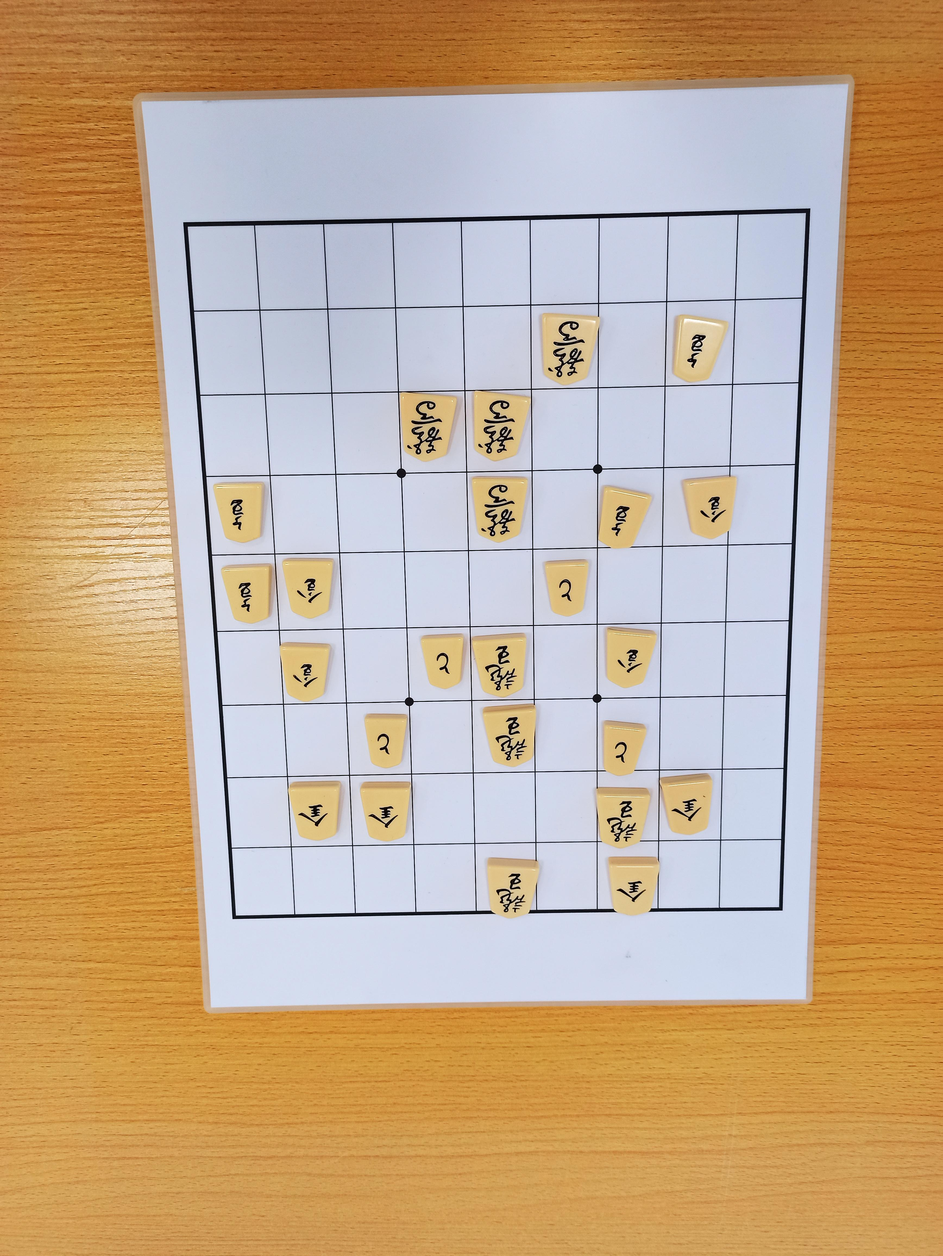board: (187, 212, 808, 916)
